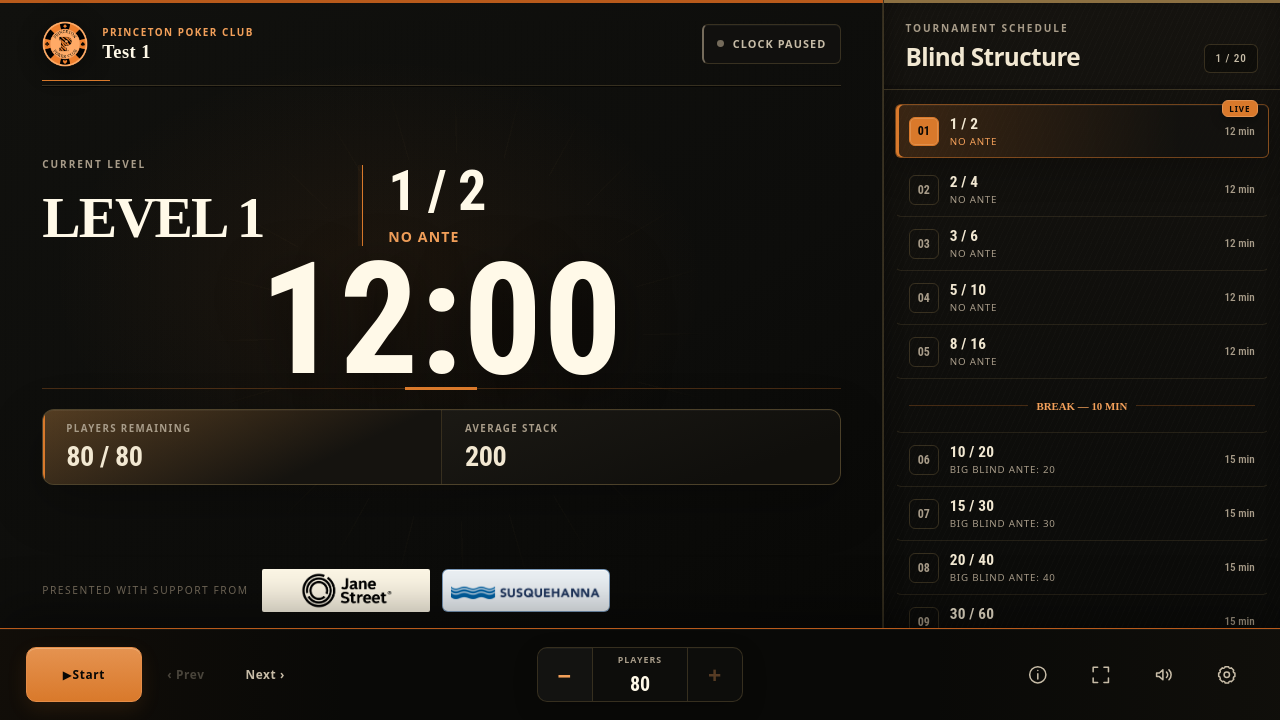
InfoOverlay › renders the Info header as a shared semantic lockup without the tournament name
Click the button named "Open tournament information" at (1038, 674), box [1010, 647, 1065, 702]
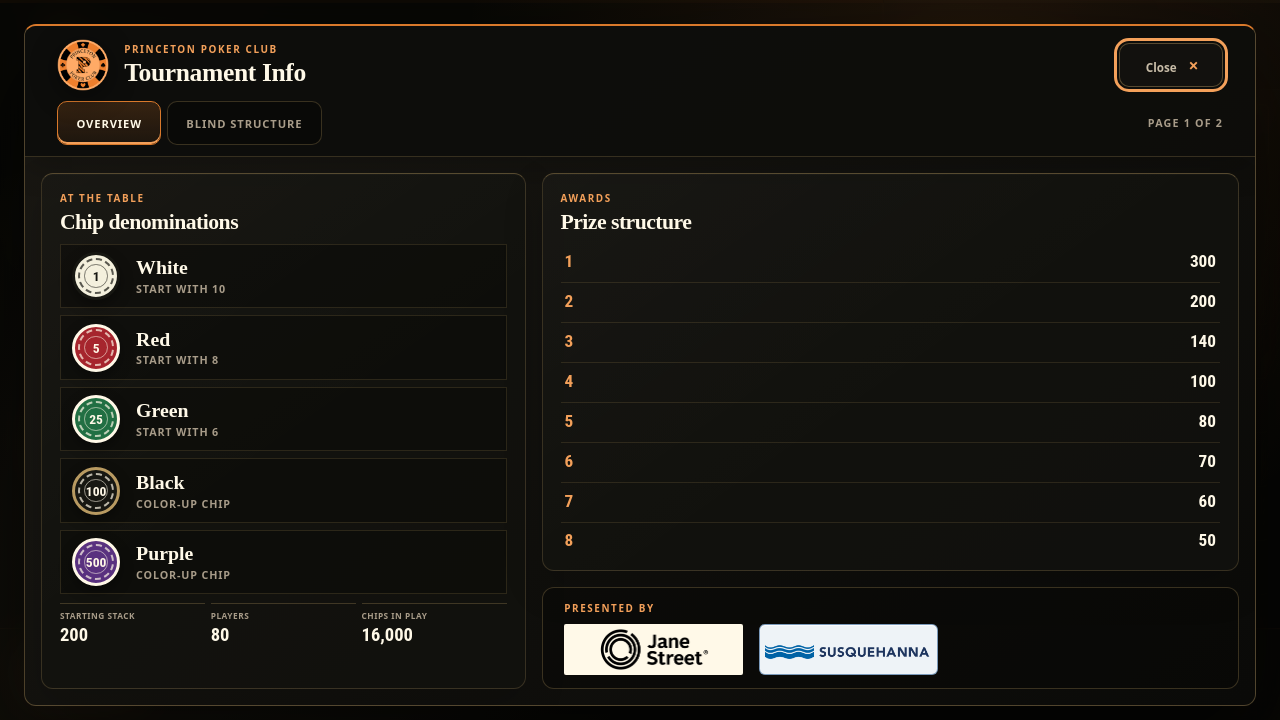
Now the element with class "club-brand-lockup" that starts with "Princeton Poker Club" is shown, box [57, 39, 306, 91]
Now the heading "Tournament Info" is shown, box [124, 58, 306, 88]
